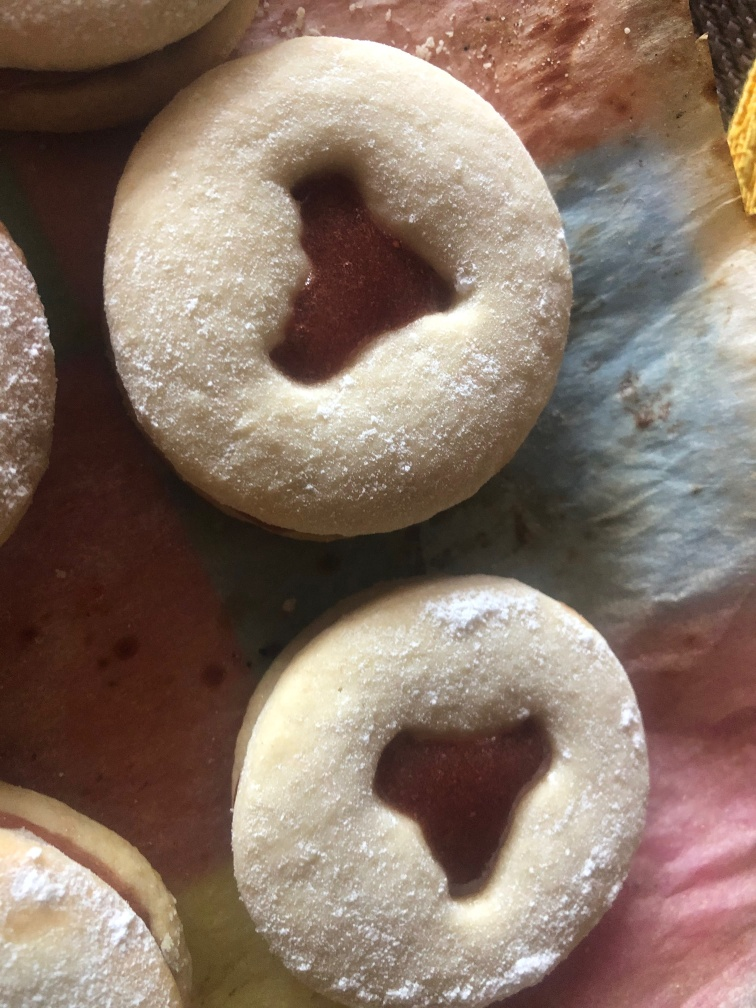christmas shortbread with jam: (101, 32, 576, 557), (218, 566, 651, 1008), (6, 778, 195, 1006)
